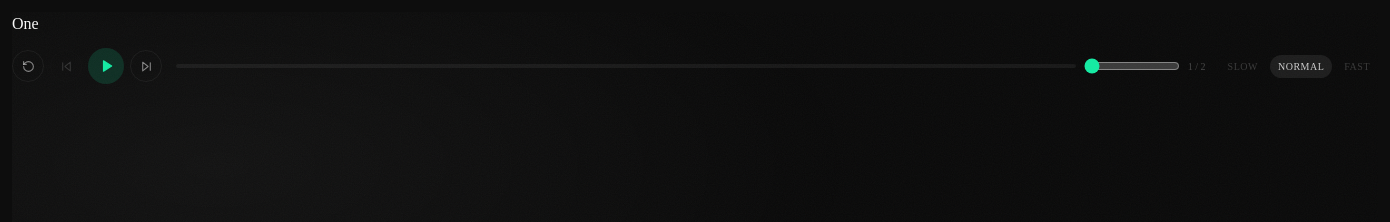
Scenario: AnimationPlayer auto-advance › waits for the longest motion in the beat before advancing
The image size is (1390, 222).
Click the button named "play": (106, 66) top-left (88, 48), bottom-right (124, 84)
Wait 950 ms
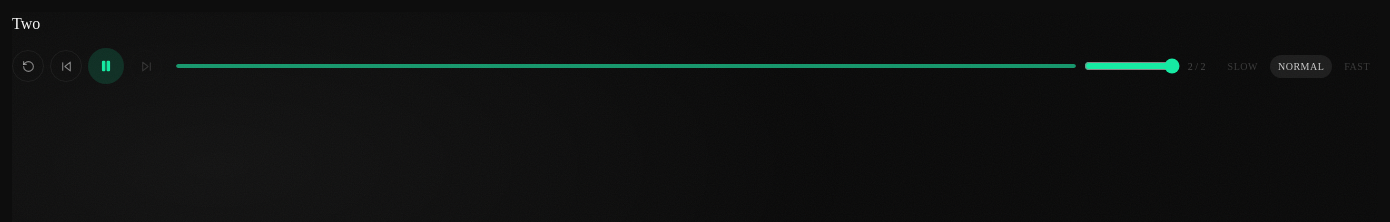
Check: the text "Two" is shown, box top-left (12, 15), bottom-right (40, 32)
